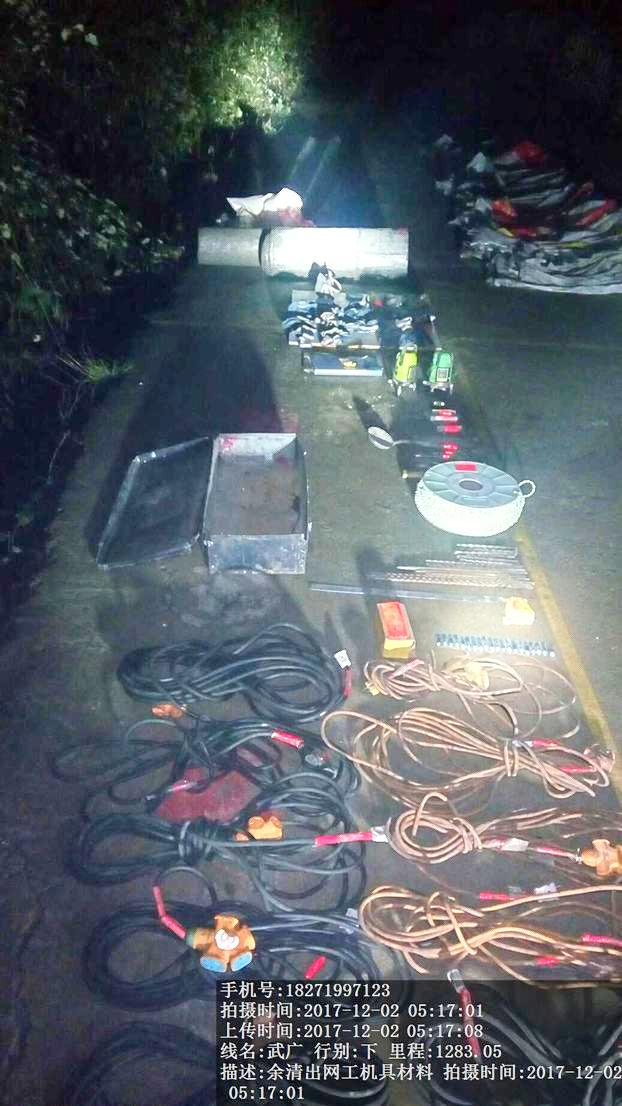DX: (56, 792, 372, 895), (357, 698, 610, 812), (96, 618, 361, 719), (354, 652, 587, 721)
